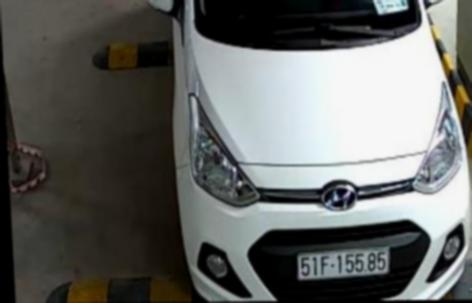License_Plate: (289, 243, 401, 283)
